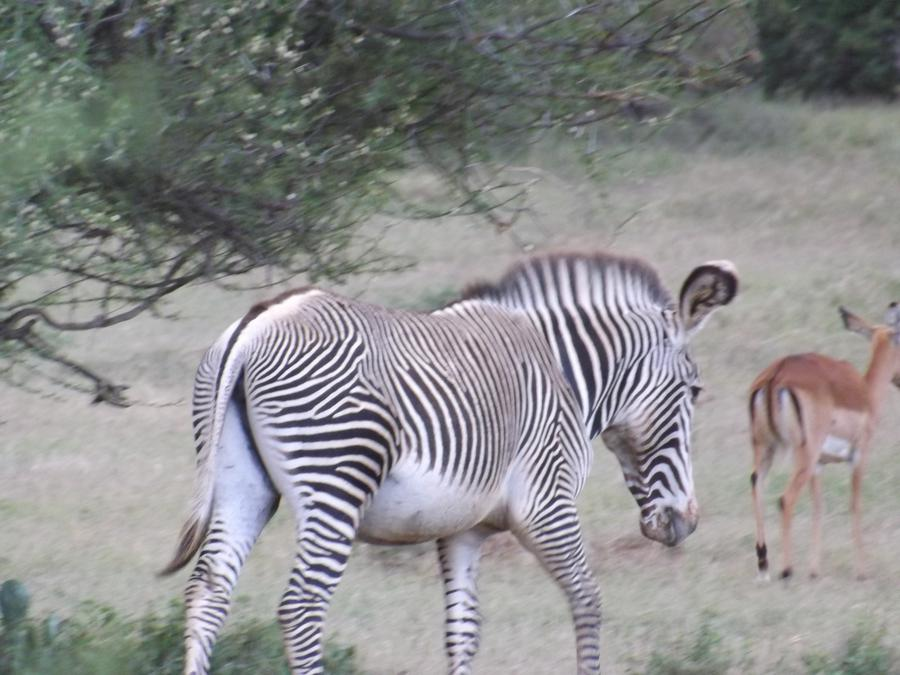zebra_grevys: (208, 273, 590, 504)
